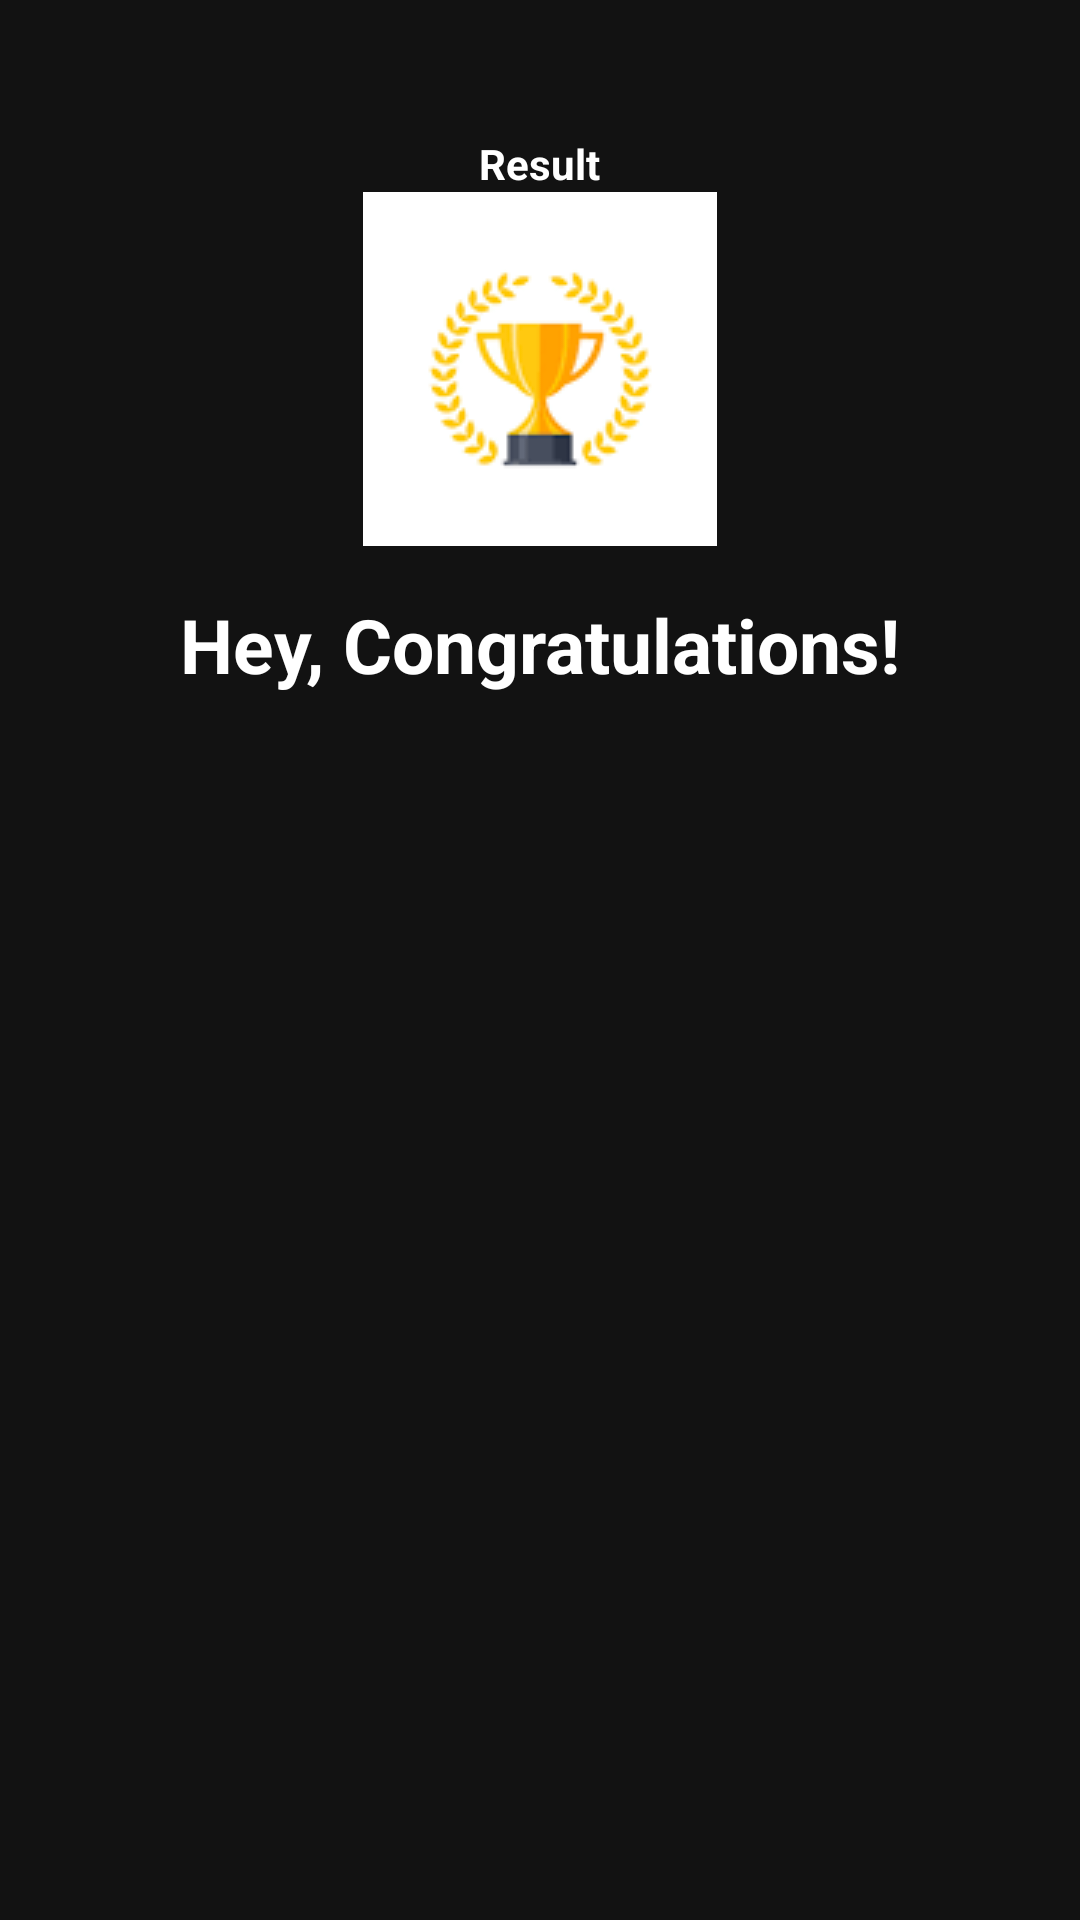

Icons on this 1080×1920 Android screen, each with its box as (x1, y1, x2, y2):
image of trophy: (363, 192, 717, 546)
